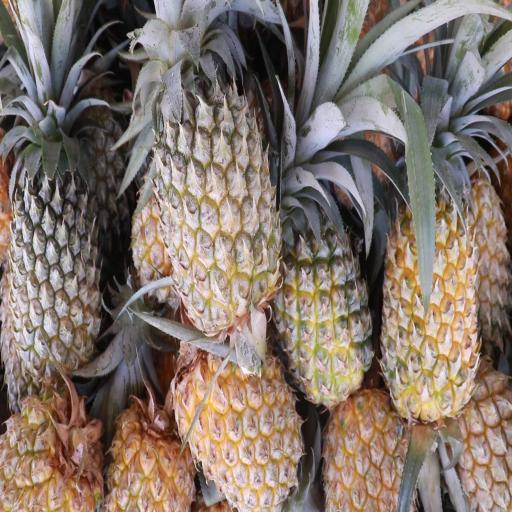------------------------------: (150, 0, 290, 348), (274, 166, 379, 419)
Pineapple - v8 v1: (375, 139, 482, 439), (170, 332, 309, 511), (0, 384, 110, 512), (324, 378, 426, 512), (100, 386, 202, 510), (445, 504, 451, 512)
